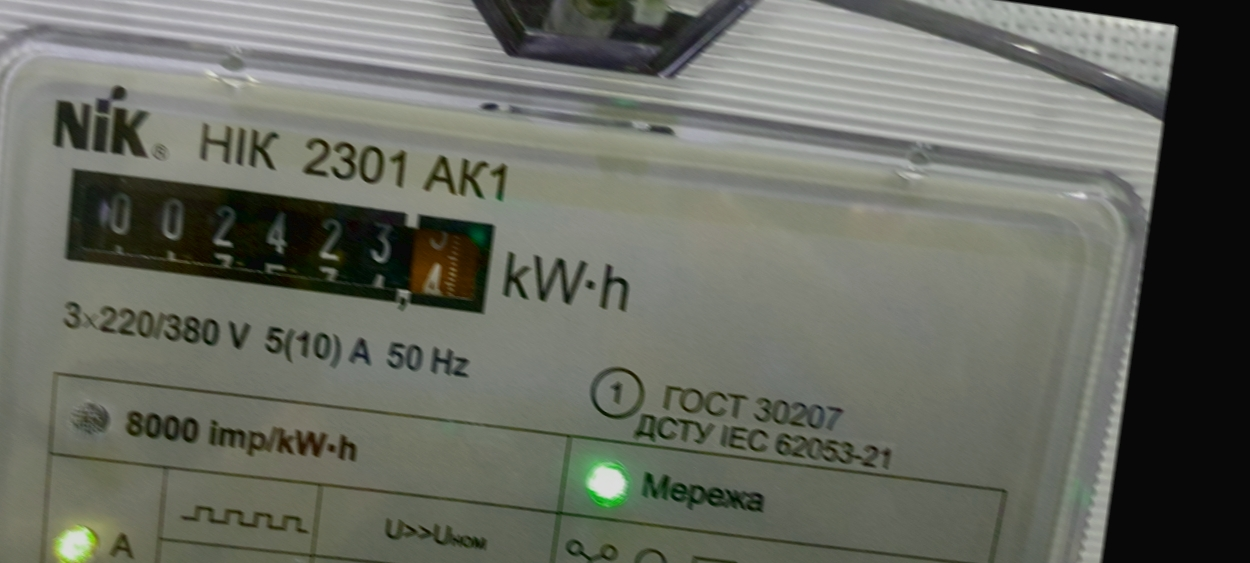0: (104, 186, 137, 237), (157, 194, 188, 241)
2: (208, 199, 240, 249), (315, 214, 345, 262)
3: (366, 217, 396, 265), (426, 226, 451, 251)
4: (263, 207, 291, 255), (418, 256, 448, 297)
screen: (48, 151, 510, 331)
